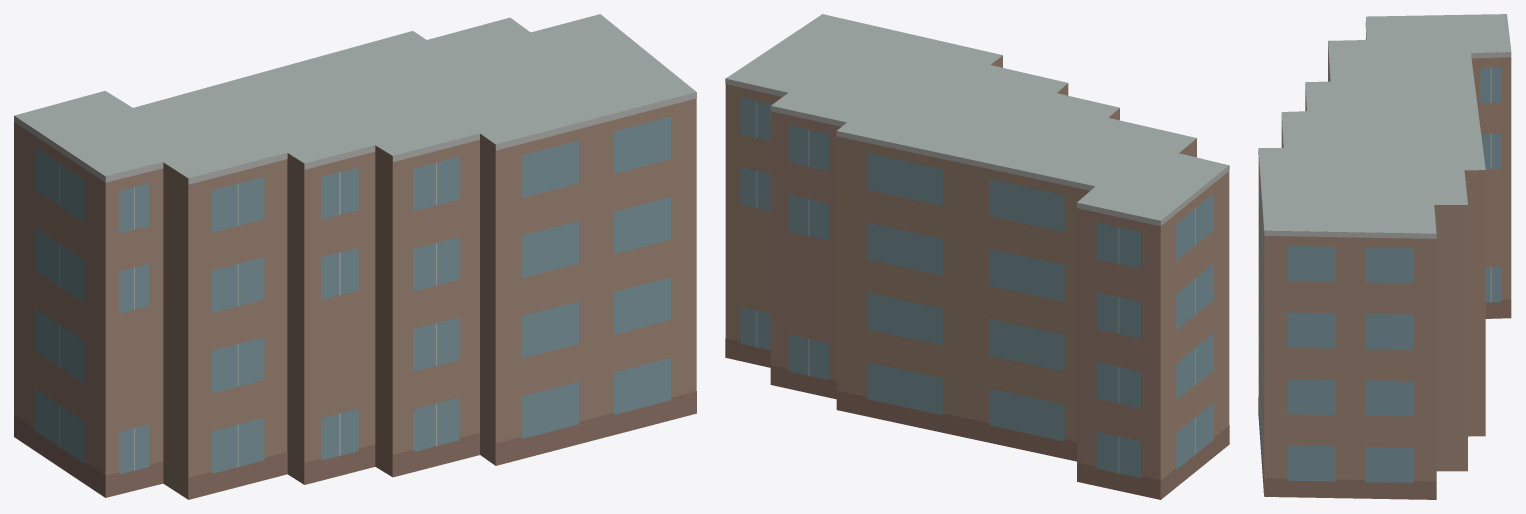
Rendered from survey-upis-32607056.glb.
3 renders of one model, left to right at view 1: azimuth 30°, elevation 25°; view 2: azimuth 150°, elevation 25°; view 3: azimuth 270°, elevation 25°, orthographic. The views are drawn at different scales.
Parts seen in each view (by area): view 1: survey-upis-32607056.tmp; view 2: survey-upis-32607056.tmp; view 3: survey-upis-32607056.tmp.
Boxes of the visible parts, bbox=[...] form: survey-upis-32607056.tmp: bbox=[14, 14, 696, 499]; survey-upis-32607056.tmp: bbox=[725, 14, 1229, 499]; survey-upis-32607056.tmp: bbox=[1258, 14, 1511, 499].
Bounding box in the file's own units: 22.14 × 12.5 × 10.78.
